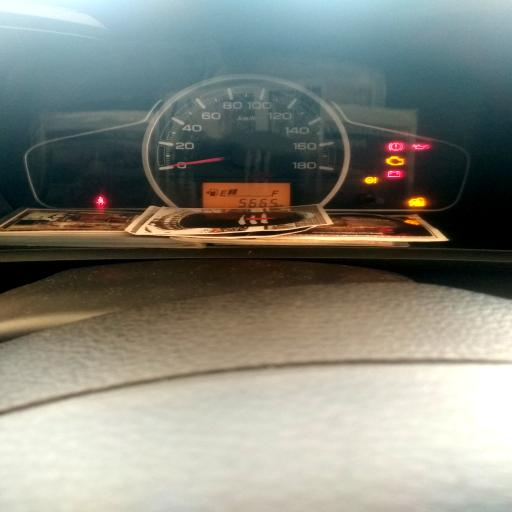belt: (96, 196, 105, 205)
brake_system_fault: (389, 142, 404, 152)
car_closed: (408, 197, 426, 208)
check_engine: (386, 156, 404, 166)
oil: (412, 143, 429, 151)
vehicle_charging: (388, 170, 401, 178)
